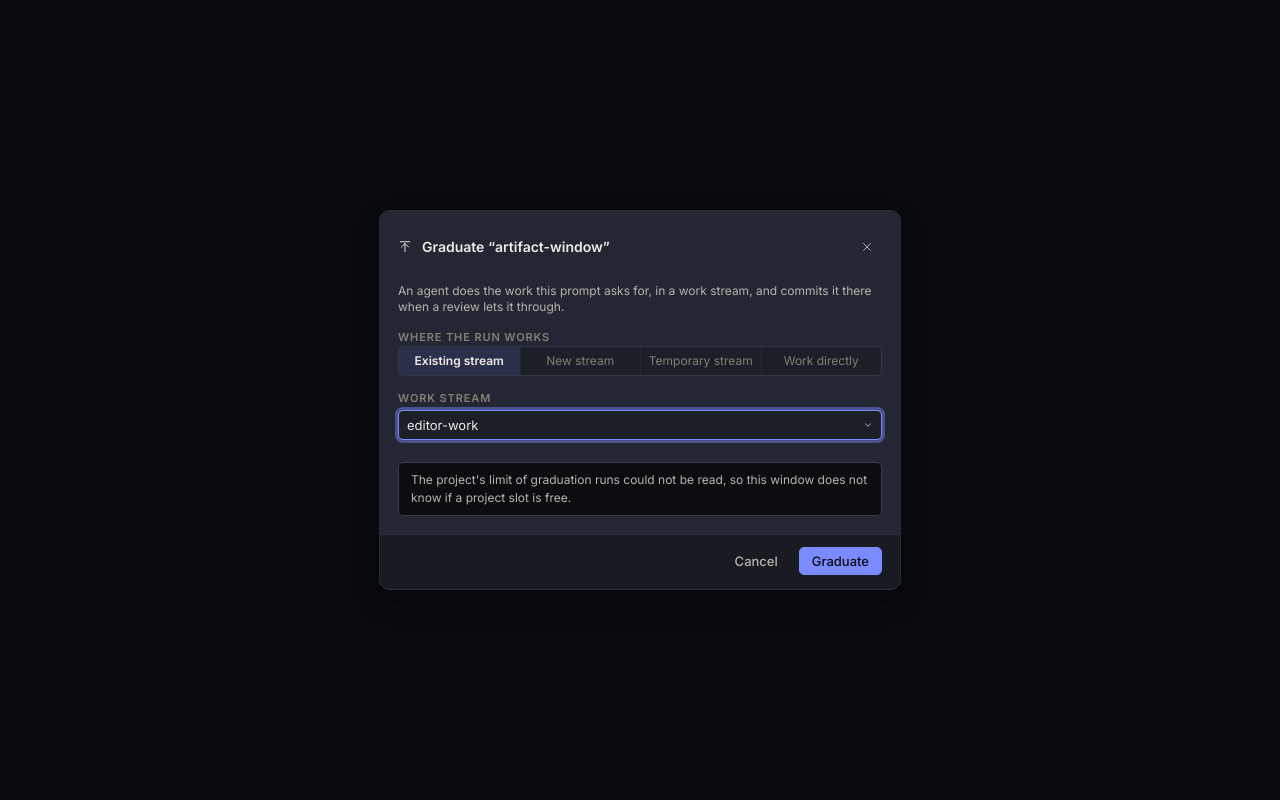
it: what the run does with work standing in the stream › GSD-FR-WQPD: a free stream is asked nothing, and an occupied one is asked
Choosing a stream the run must wait for asks the question.
Select "registry-work" in the dropdown labelled "Work stream": (640, 425) [398,410,882,440]
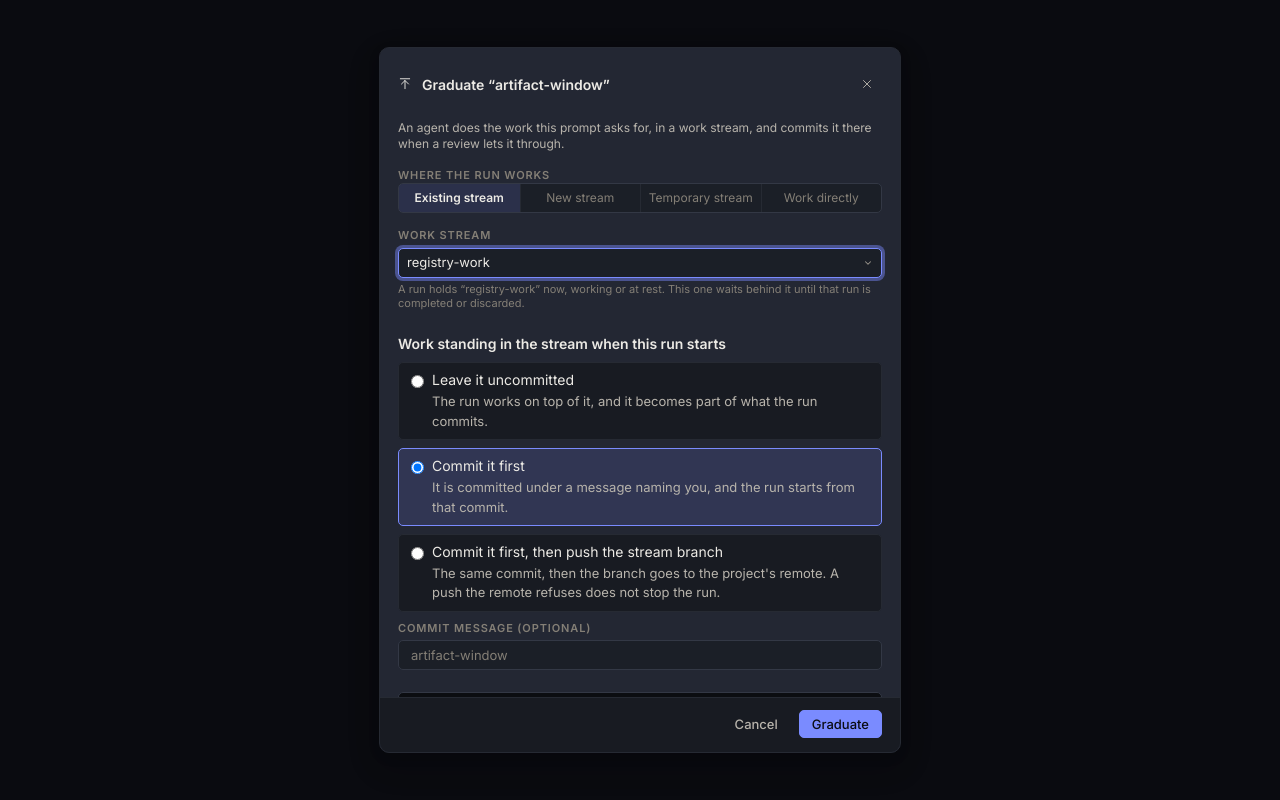
Expected: the element with test id "standing-work-choice" is shown, [398,333,882,678]
And going back to the free one puts it away again.
Select "editor-work" in the dropdown labelled "Work stream": (640, 263) [398,248,882,278]
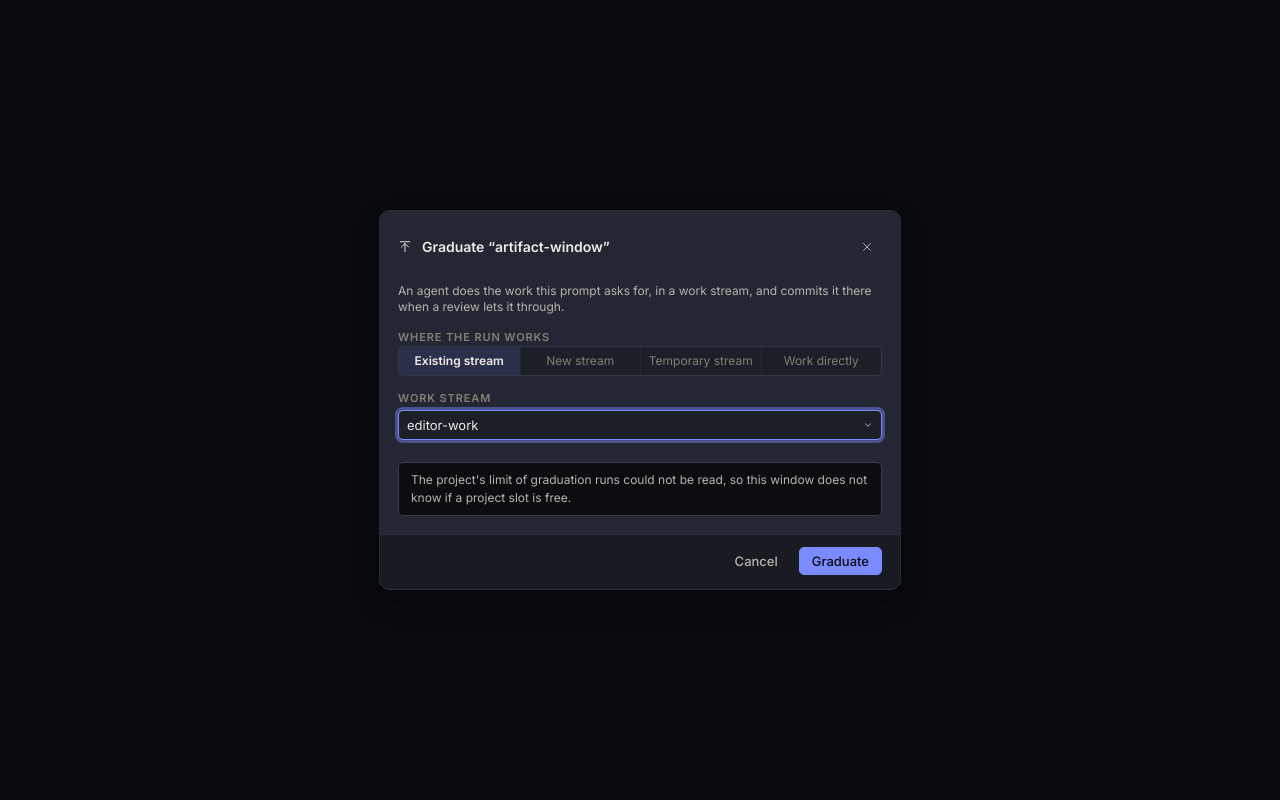
Expected: the element with test id "standing-work-choice" is gone
